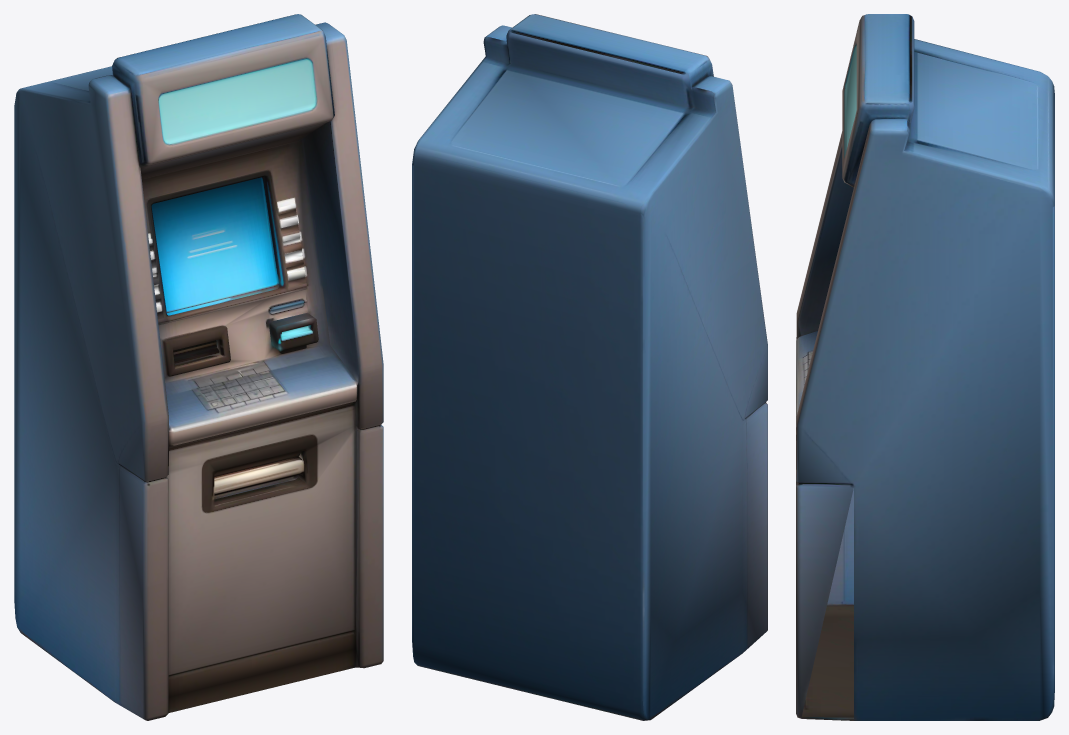
File: atm_realistic_style_7e44bb01_v2.glb
The picture shows the model from 3 angles, left to right: view 1: azimuth 30°, elevation 25°; view 2: azimuth 150°, elevation 25°; view 3: azimuth 270°, elevation 25°; orthographic projection. The views are drawn at different scales.
Parts seen in each view (by area): view 1: texture_pbr_20250901; view 2: texture_pbr_20250901; view 3: texture_pbr_20250901.
Part boxes in pixels (<box>): texture_pbr_20250901: <box>14,14,383,720</box>; texture_pbr_20250901: <box>412,14,767,720</box>; texture_pbr_20250901: <box>796,14,1054,720</box>.
Size of the model in its own units: 0.7799 by 1.9 by 0.7343.
Materials: 1 (1 with a texture image).
